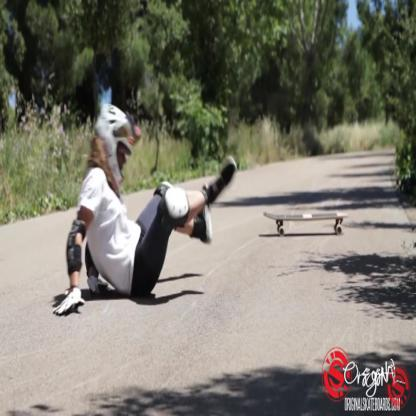Fall_Down: (51, 117, 239, 319)
